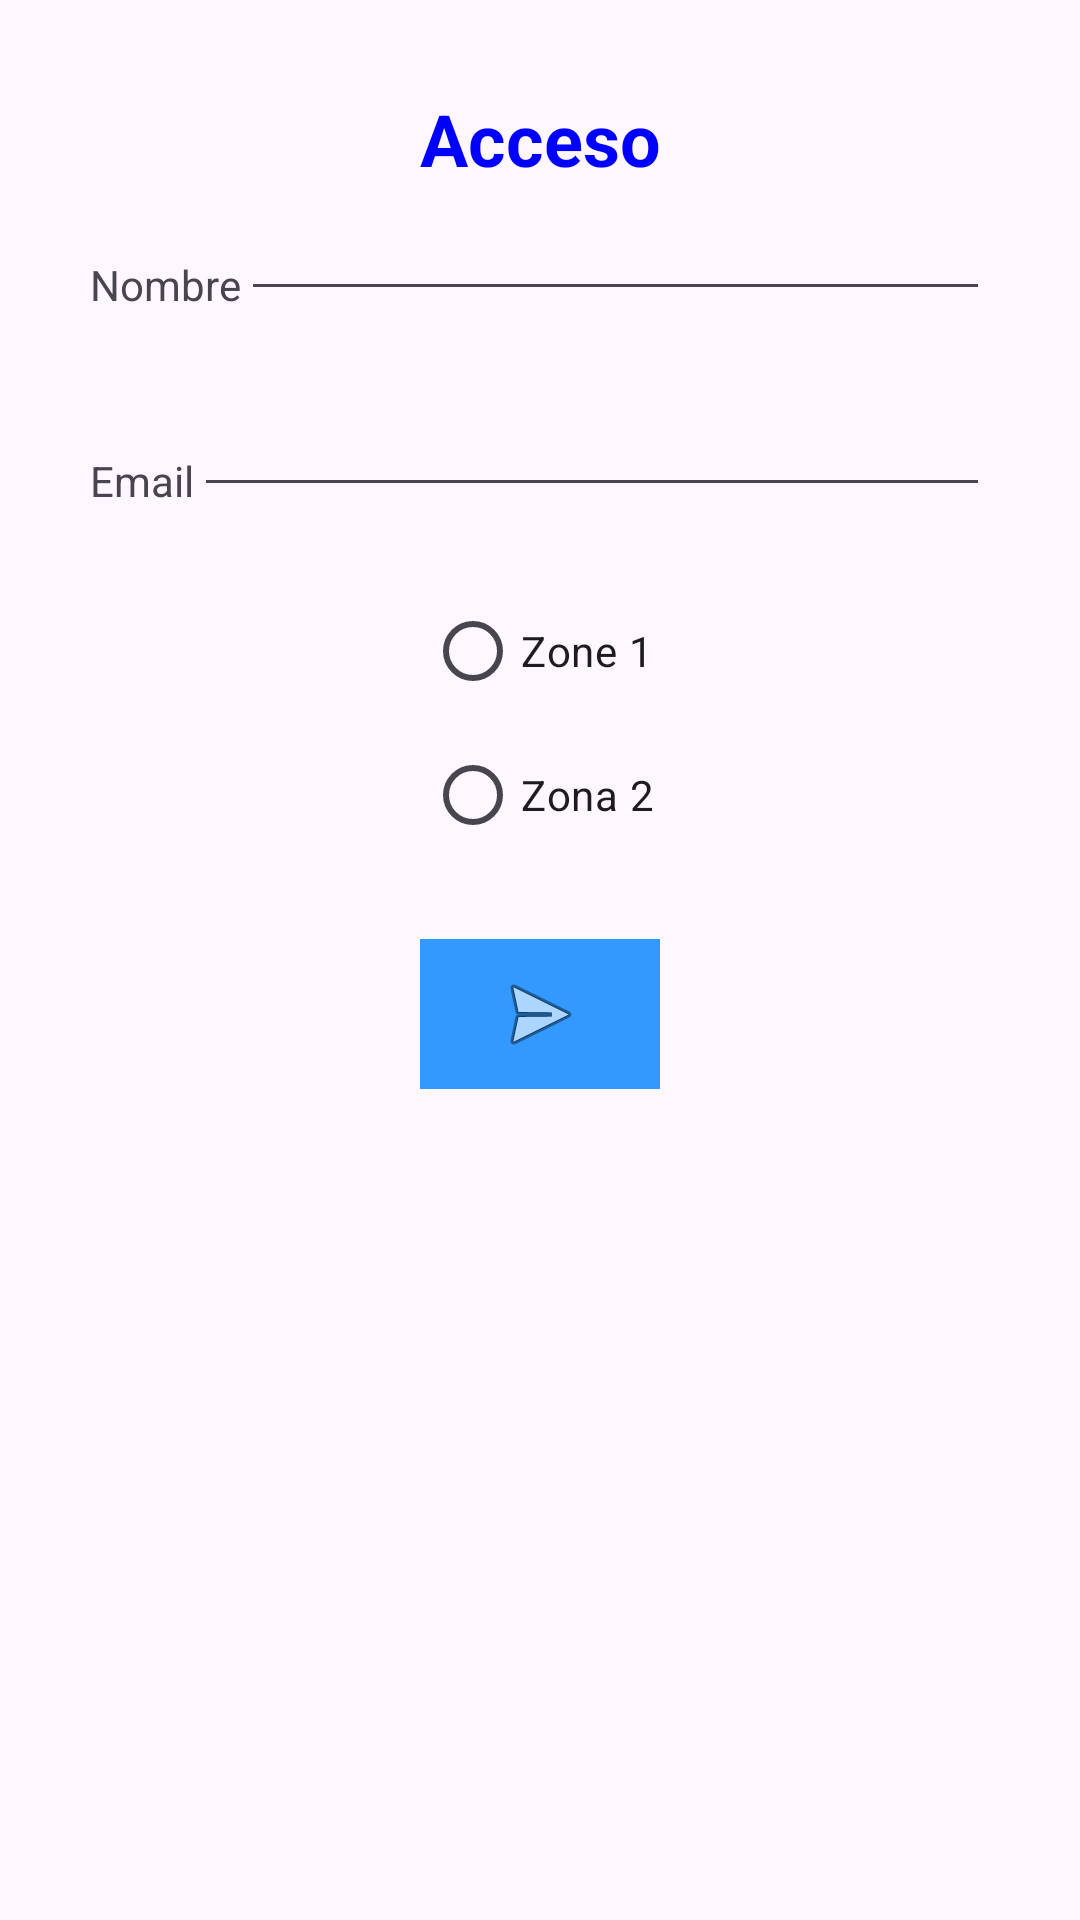

Icon click points for this 1080 × 1920 phone screenshot, format [x,y]:
enviar: [540,1014]
